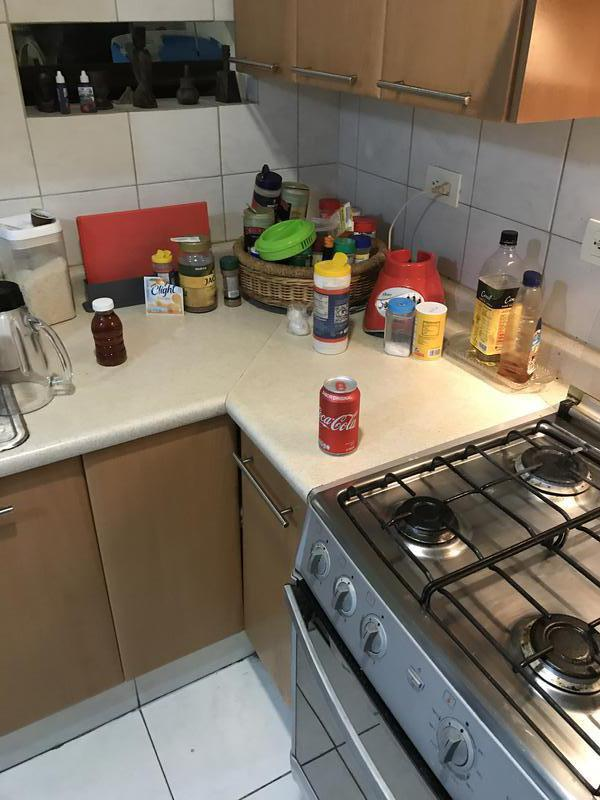coca_cola: (319, 377, 361, 455)
